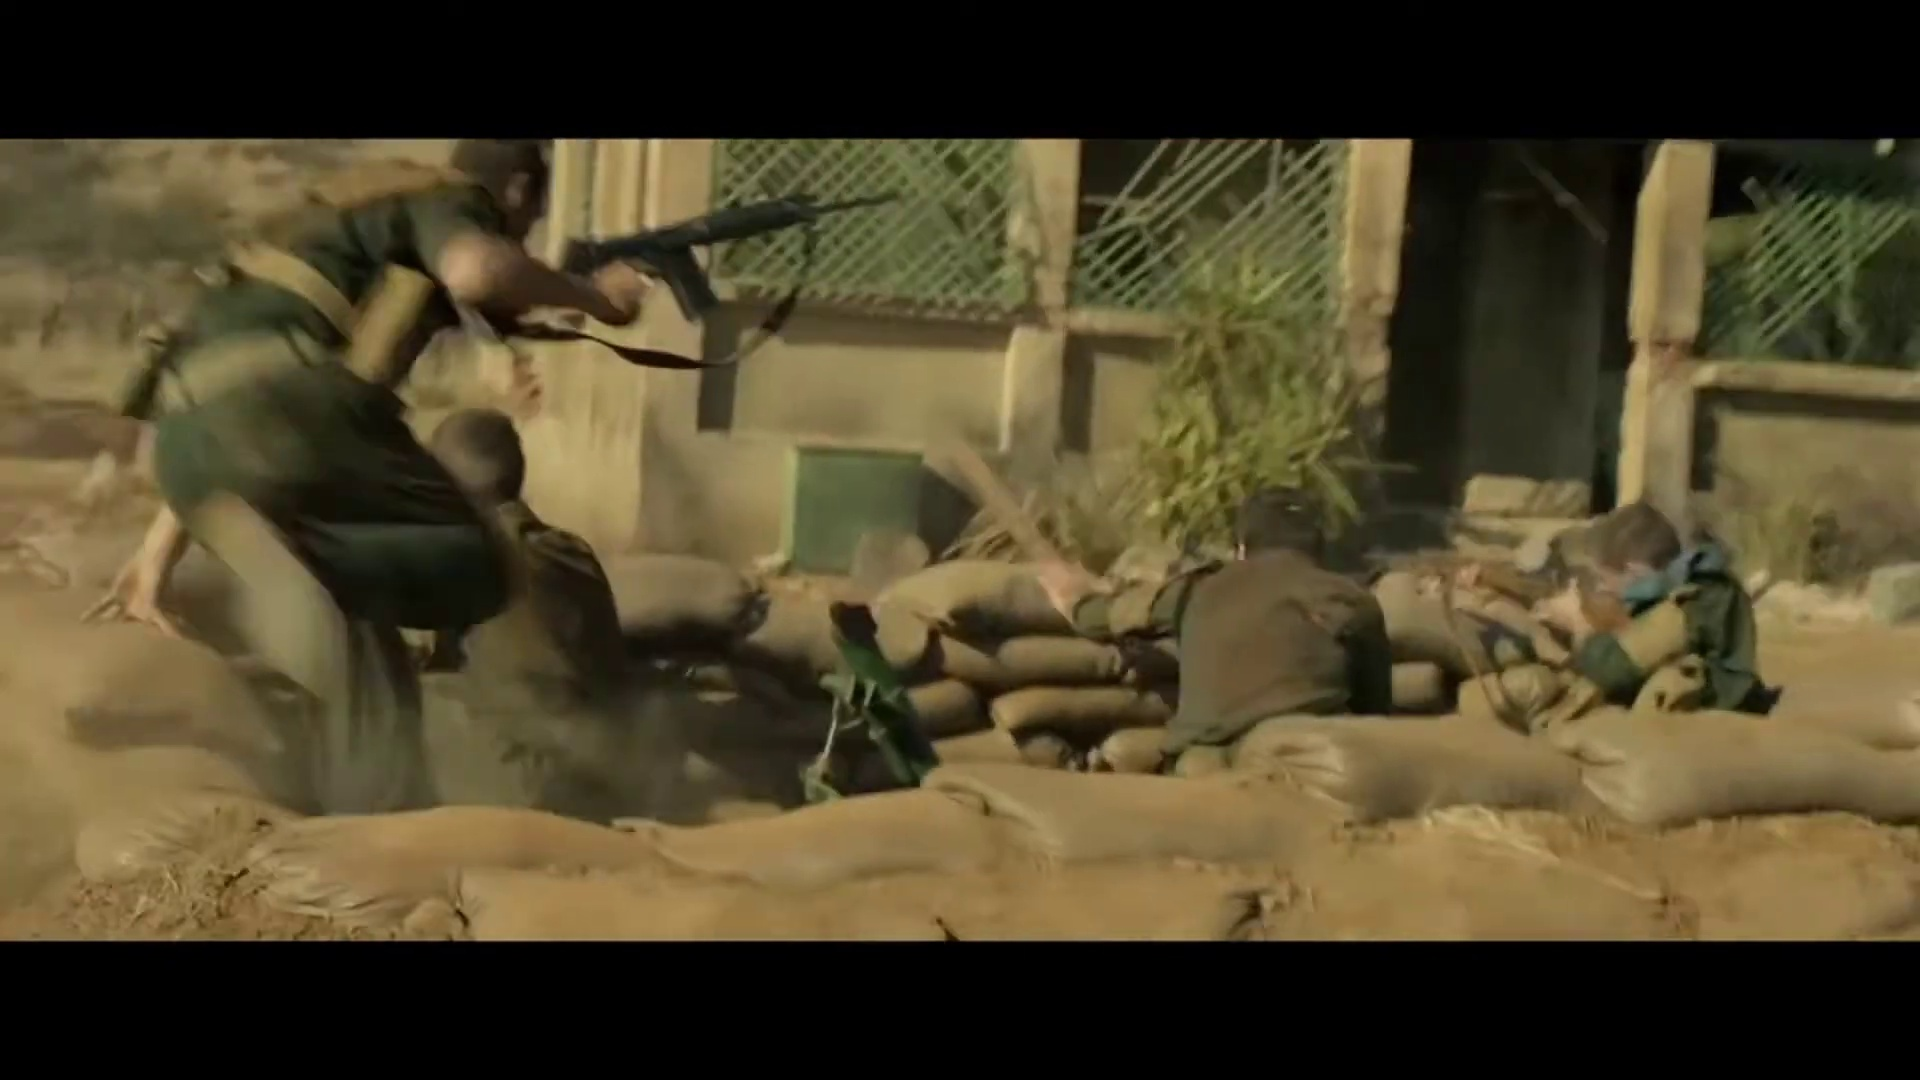gun: (562, 181, 902, 347), (1403, 547, 1629, 637)
p_w_gun: (105, 137, 909, 818), (1403, 500, 1771, 721)
p_wo_gun_not_carrying_normal_pose: (1040, 481, 1394, 746), (384, 402, 628, 679)
